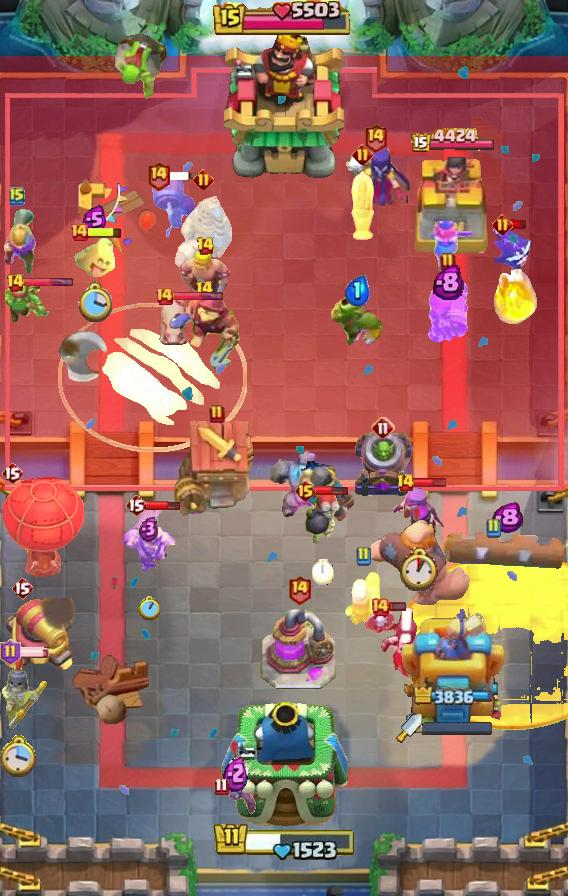axe: (55, 330, 111, 384)
bar: (172, 291, 224, 302), (22, 277, 74, 288), (145, 499, 181, 512), (87, 226, 123, 239), (12, 646, 50, 658), (314, 485, 349, 497), (412, 477, 447, 488), (168, 171, 204, 181), (388, 601, 407, 612), (511, 219, 528, 230)
bar-level: (287, 574, 312, 605), (146, 160, 171, 191), (363, 122, 388, 153), (371, 416, 395, 440), (294, 479, 317, 503), (0, 639, 21, 665), (11, 576, 33, 600), (125, 493, 147, 517), (1, 461, 23, 485), (492, 214, 513, 235), (193, 169, 214, 190), (352, 144, 373, 165), (370, 597, 390, 617), (154, 286, 174, 306), (69, 222, 89, 242), (396, 473, 415, 493), (195, 280, 214, 300), (6, 273, 25, 293), (196, 236, 215, 256), (355, 546, 371, 566), (485, 518, 501, 538), (209, 404, 225, 424), (440, 252, 456, 272), (9, 186, 25, 206), (214, 777, 229, 796)
barbarian: (179, 250, 231, 294)
barbarian-evolution: (122, 508, 177, 573)
bat: (212, 784, 258, 818)
bomber: (304, 489, 342, 545)
clock: (398, 547, 441, 592), (0, 733, 39, 777), (77, 281, 112, 324), (312, 559, 334, 585), (138, 596, 160, 620)
dagger-duchess-tower: (401, 601, 505, 731)
dagger-duchess-tower-bar: (422, 721, 494, 735)
electro-spirit: (493, 229, 535, 275)
elixir: (433, 264, 464, 300), (491, 502, 523, 534), (223, 755, 248, 792), (344, 275, 370, 306), (82, 205, 107, 234), (139, 516, 159, 542)
firecracker: (342, 569, 384, 627)
firecracker-evolution: (424, 266, 472, 346)
goblin-ball: (112, 31, 170, 103)
goblin-brawler: (329, 291, 385, 349)
golemite: (270, 445, 332, 521)
guard: (0, 654, 50, 730)
heal-spirit: (72, 236, 116, 280)
hog: (158, 296, 192, 352)
king-tower: (224, 29, 344, 181), (220, 701, 348, 826)
king-tower-bar: (212, 818, 356, 860), (213, 0, 355, 38)
knight: (296, 461, 354, 522)
mortar-evolution: (351, 429, 415, 499)
mother-witch: (391, 487, 447, 551)
musketeer: (0, 209, 40, 273)
night-witch: (363, 608, 425, 680)
queen-tower: (410, 154, 496, 256)
royal-hog: (346, 169, 378, 243)
spear-goblin: (3, 282, 51, 326)
the-log: (440, 526, 568, 572)
tower-bar: (410, 127, 496, 155), (413, 687, 494, 705)
valkyrie: (428, 219, 476, 273)
wall-breaker: (150, 175, 198, 241)
witch: (337, 147, 413, 209)
